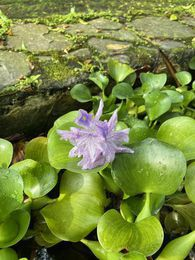water_hyacinth: (1, 61, 195, 259)
